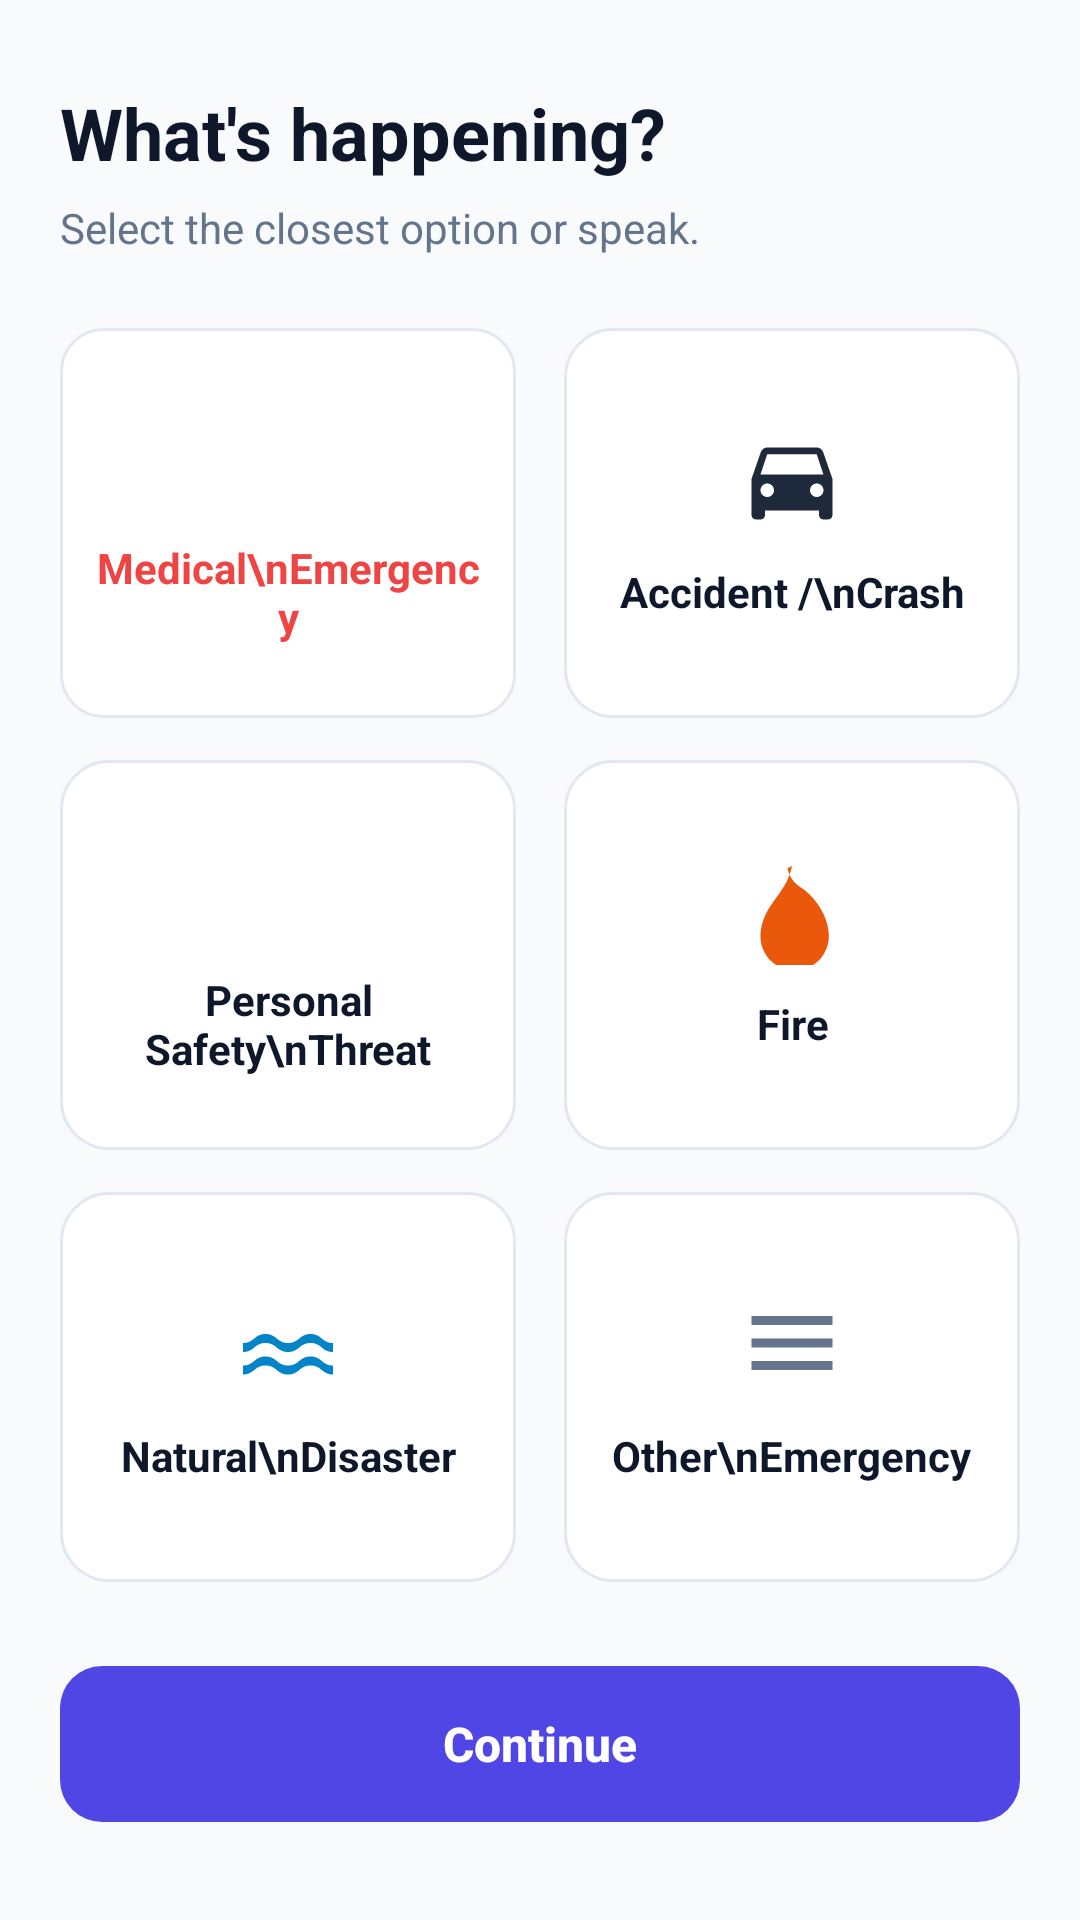

Screen size 1080 x 1920. Icon name, then its box in pixels as (x1, y1, x2, y2):
car: (751, 447, 833, 520)
more: (751, 1316, 833, 1370)
waves: (243, 1334, 333, 1375)
